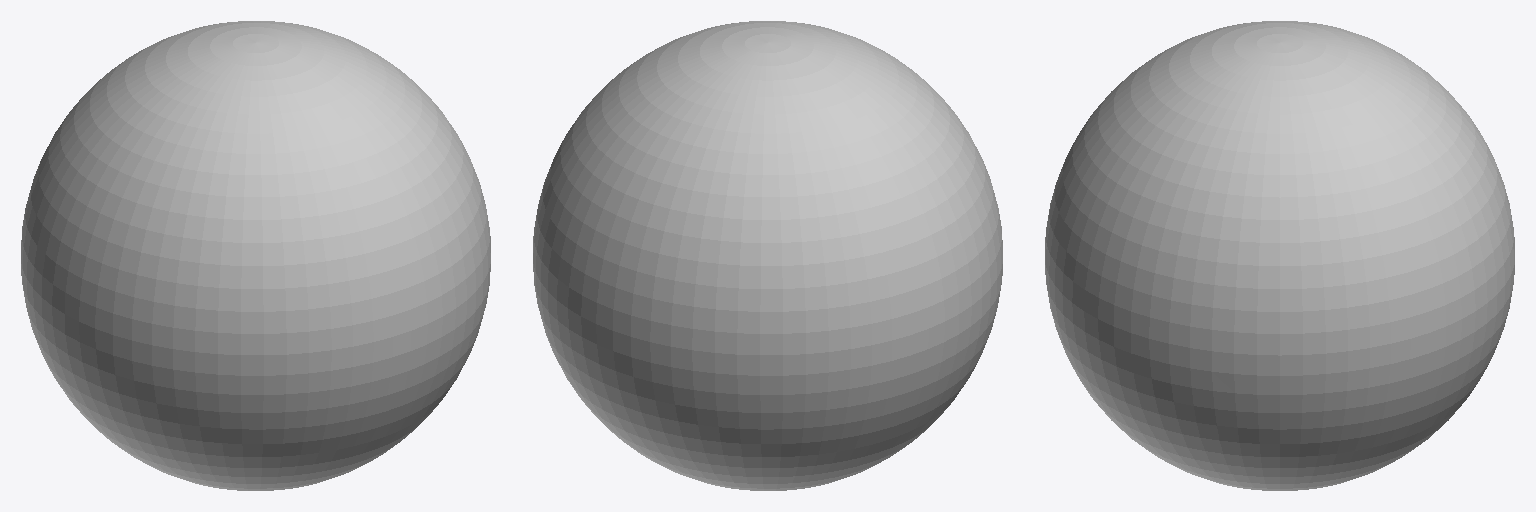
File: alien_planet.obj
The picture shows the model from 3 angles: view 1: azimuth 30°, elevation 25°; view 2: azimuth 150°, elevation 25°; view 3: azimuth 270°, elevation 25°; orthographic projection.
Parts seen in each view (by area): view 1: Object_6; view 2: Object_6; view 3: Object_6.
Boxes of the visible parts, x1=… form: Object_6: x1=21, y1=21, x2=490, y2=490; Object_6: x1=533, y1=21, x2=1002, y2=490; Object_6: x1=1045, y1=21, x2=1514, y2=490.
Bounding box in the file's own units: 2.05 × 2.05 × 2.05.